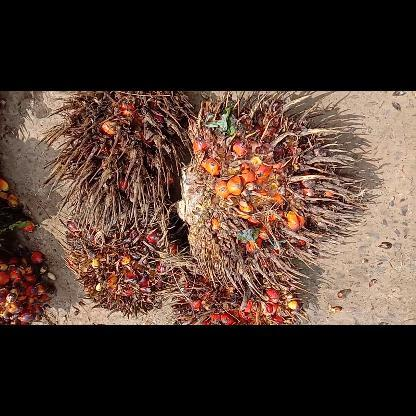Terlalu masak: (170, 90, 376, 300), (32, 90, 200, 233), (56, 194, 194, 324), (170, 256, 312, 324)
